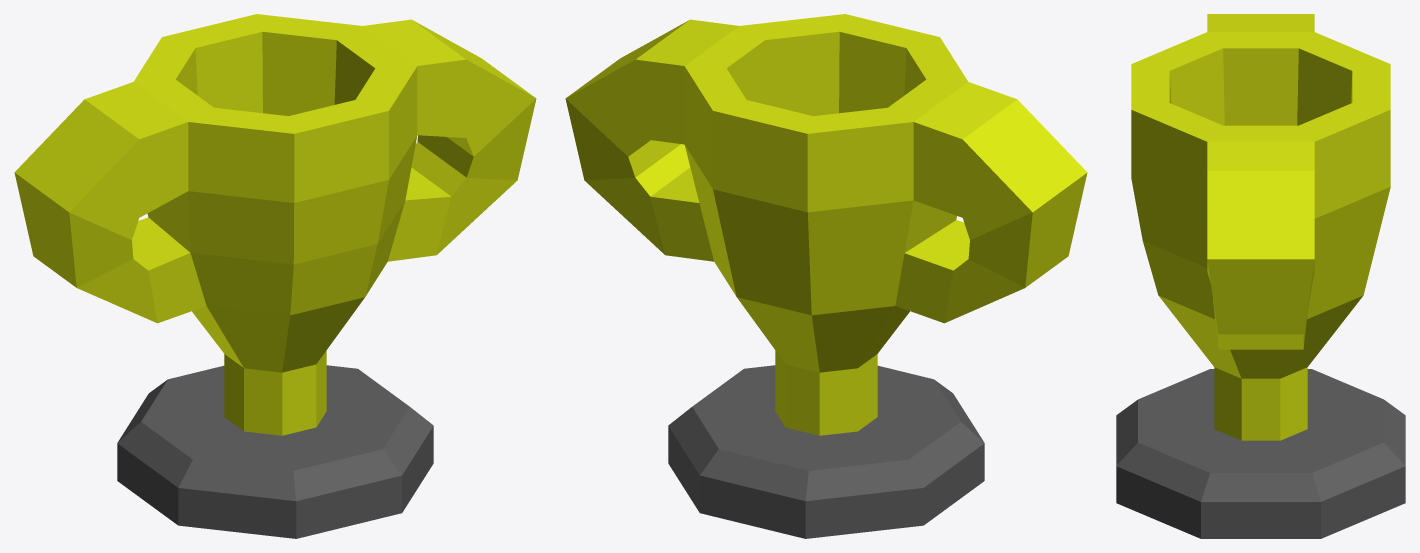
Rendered from cup.glb.
3 renders of one model, left to right at view 1: azimuth 30°, elevation 25°; view 2: azimuth 150°, elevation 25°; view 3: azimuth 270°, elevation 25°, orthographic.
Parts seen in each view (by area): view 1: Cylinder; view 2: Cylinder; view 3: Cylinder.
Part boxes in pixels (box(x1,y1,x2,y2)): Cylinder: box(14, 14, 536, 538); Cylinder: box(565, 14, 1087, 538); Cylinder: box(1116, 14, 1405, 538).
Bounding box in the file's own units: 3.38 × 2.75 × 1.85.
